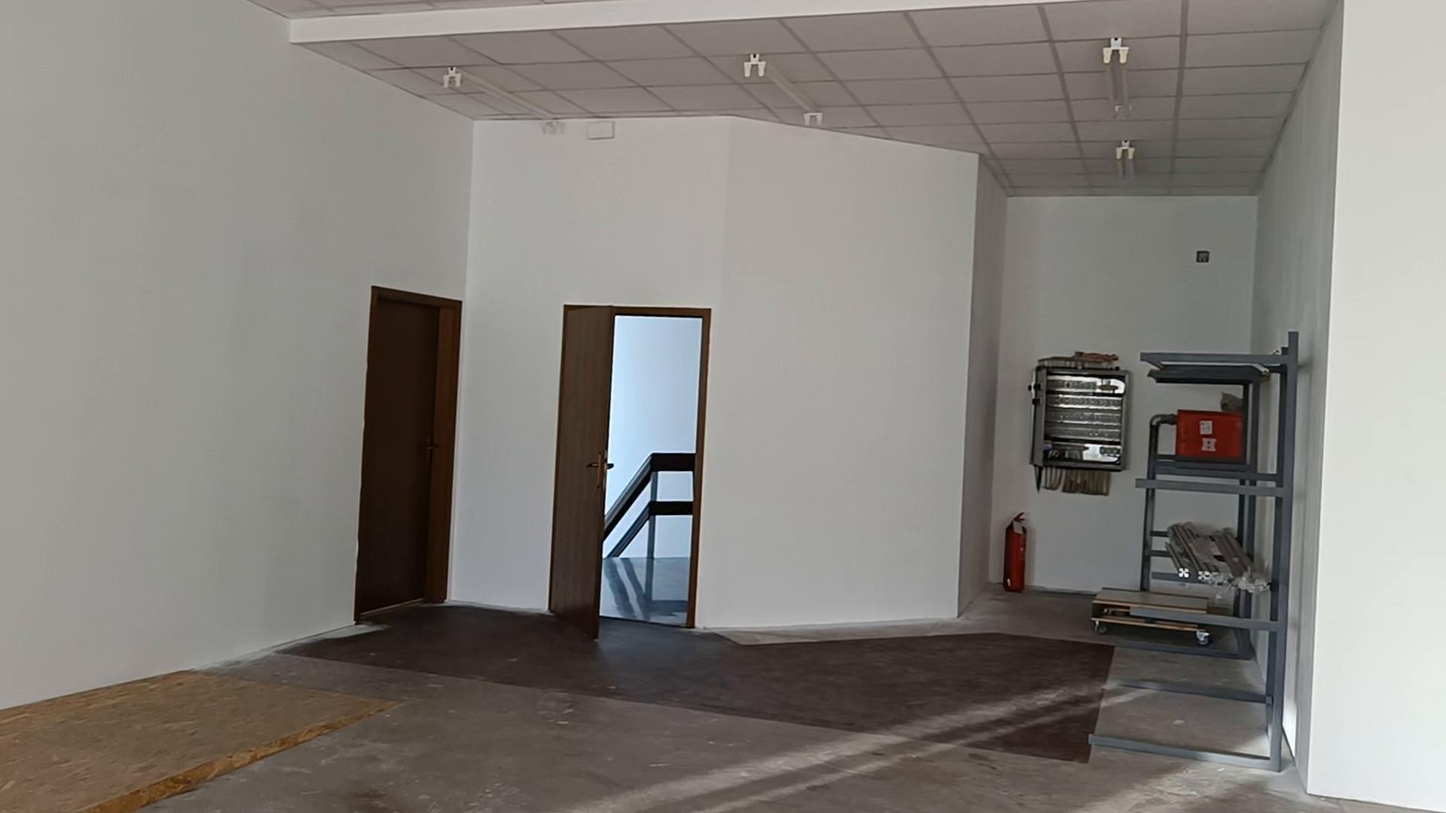ceiling: (252, 0, 1338, 196)
floor: (0, 593, 1398, 812)
wall: (1, 0, 1440, 805)
